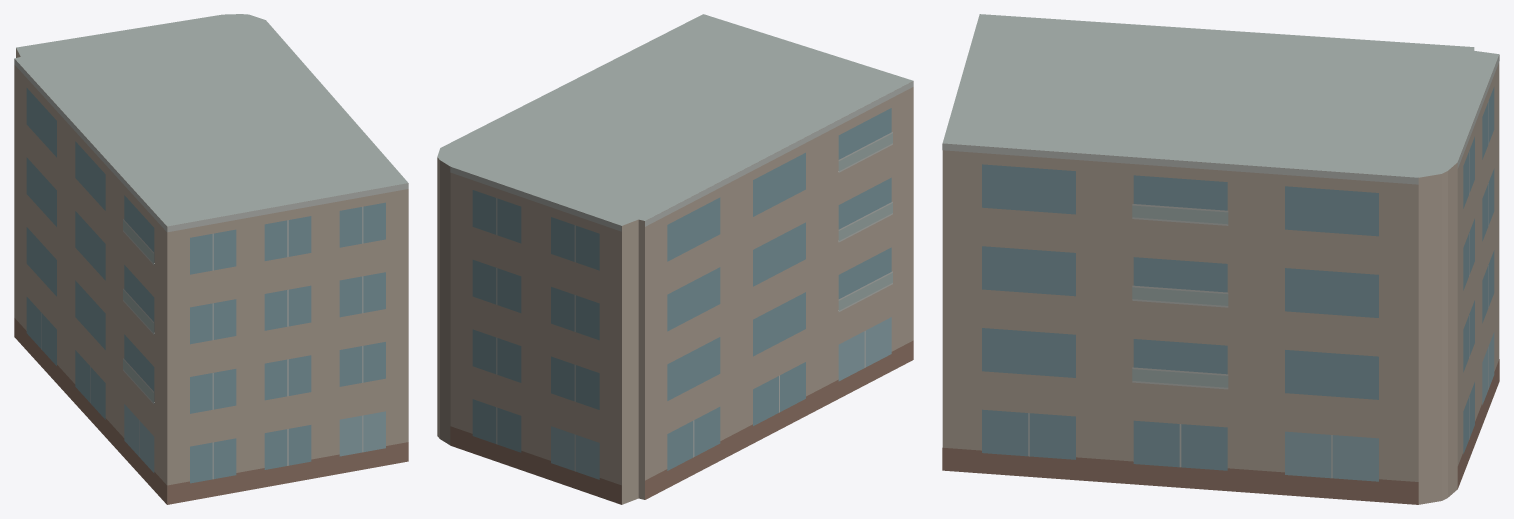
The model's file is survey-upis-32921384.glb.
3 renders of one model, left to right at view 1: azimuth 30°, elevation 25°; view 2: azimuth 150°, elevation 25°; view 3: azimuth 270°, elevation 25°, orthographic. The views are drawn at different scales.
Parts seen in each view (by area): view 1: survey-upis-32921384.tmp; view 2: survey-upis-32921384.tmp; view 3: survey-upis-32921384.tmp.
Boxes of the visible parts, box(x1,y1,x2,y2) form: survey-upis-32921384.tmp: box(14, 14, 408, 504); survey-upis-32921384.tmp: box(437, 14, 913, 504); survey-upis-32921384.tmp: box(942, 14, 1499, 504).
Bounding box in the file's own units: 12.46 × 11.6 × 17.91.
